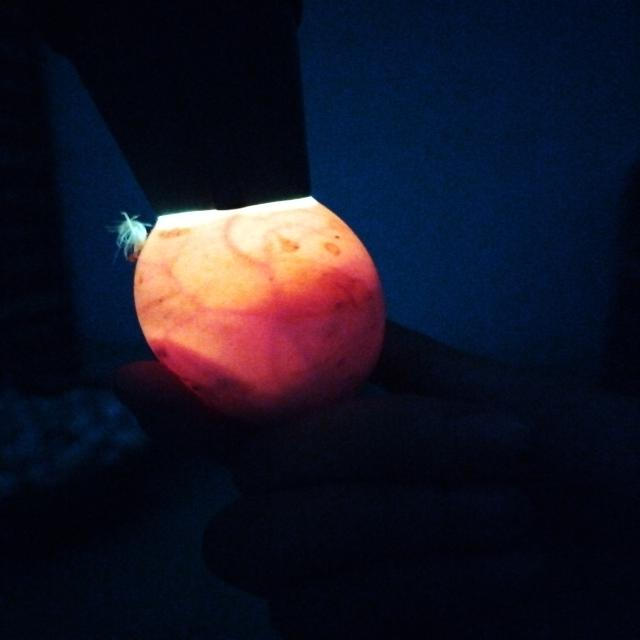Embriao: (151, 293, 383, 419)
